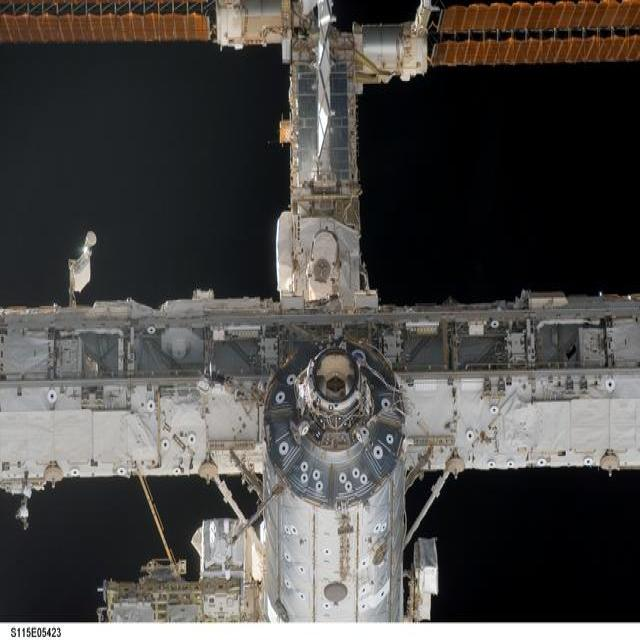medium_debris: (0, 0, 640, 621)
